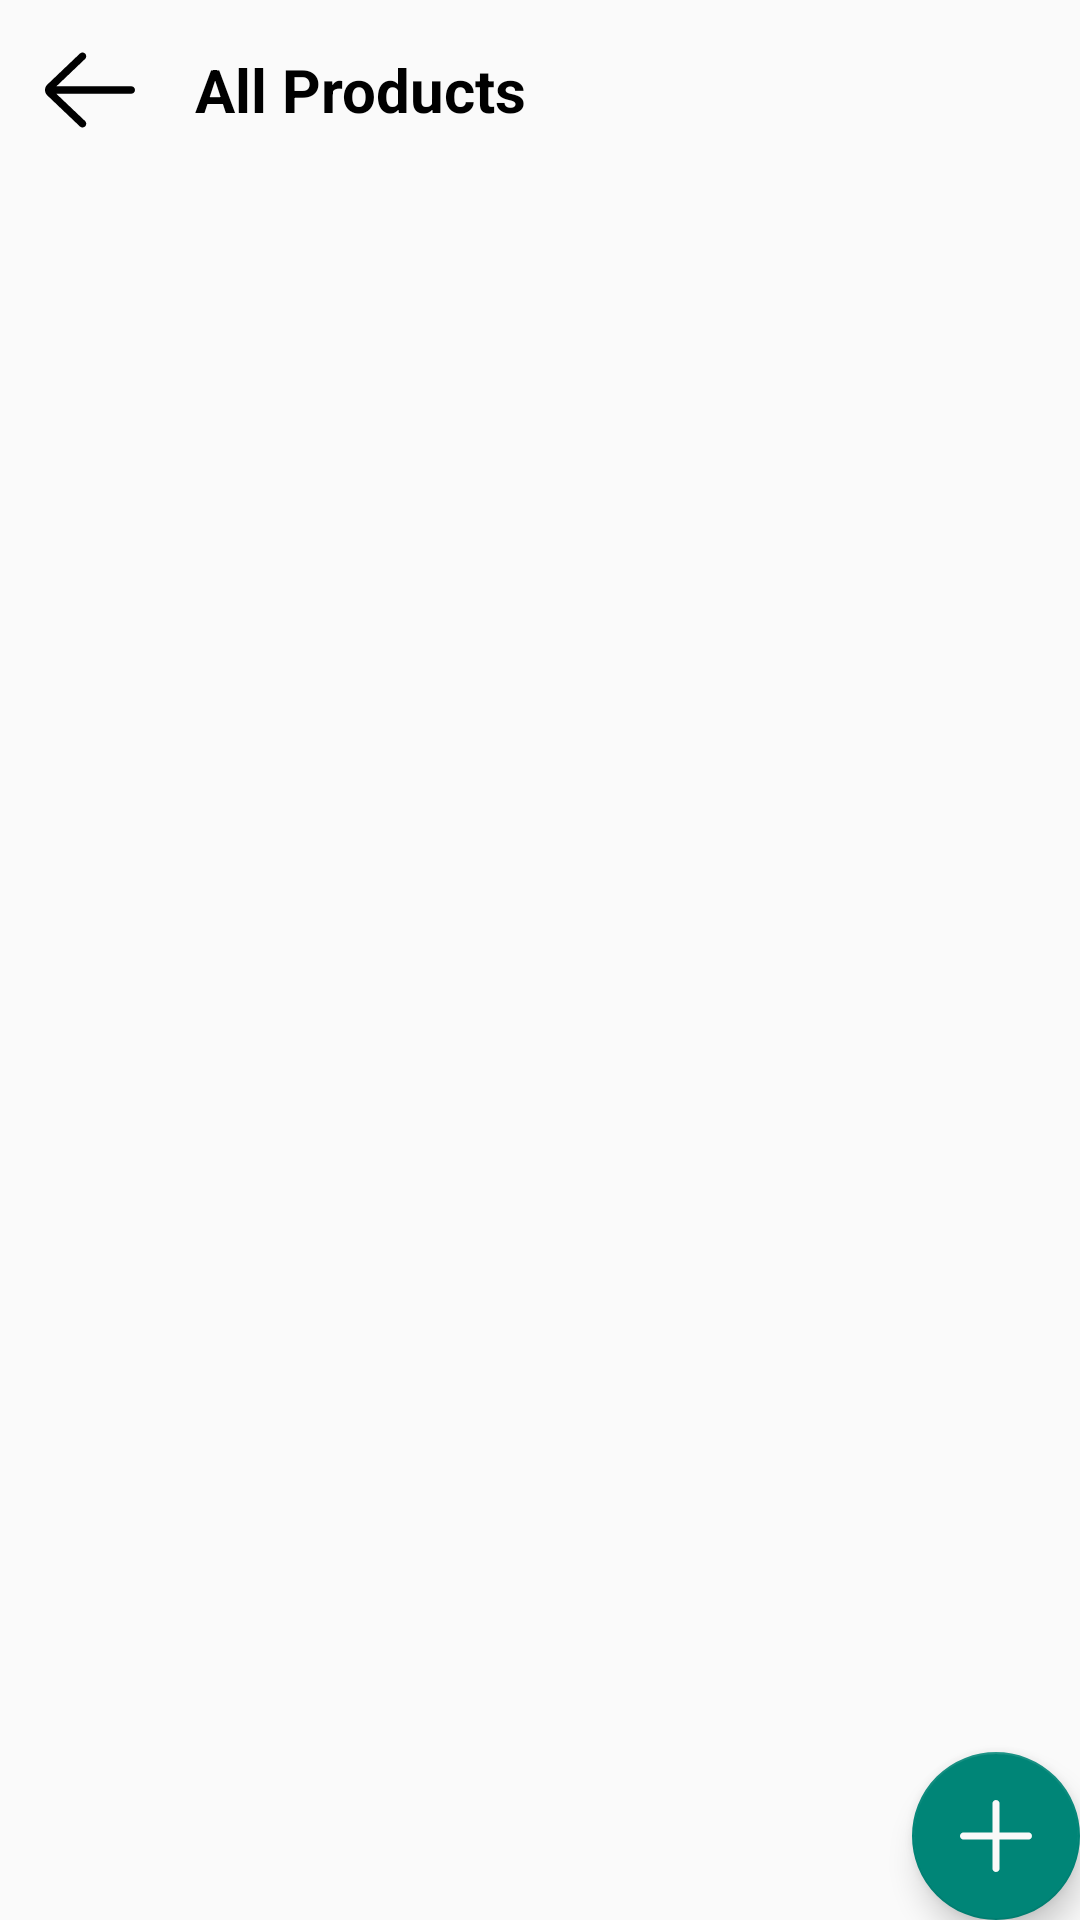

Screen size 1080 × 1920. Icon name, then its center in pixels as (x,y):
left arrow: (90,90)
plus: (996,1836)
